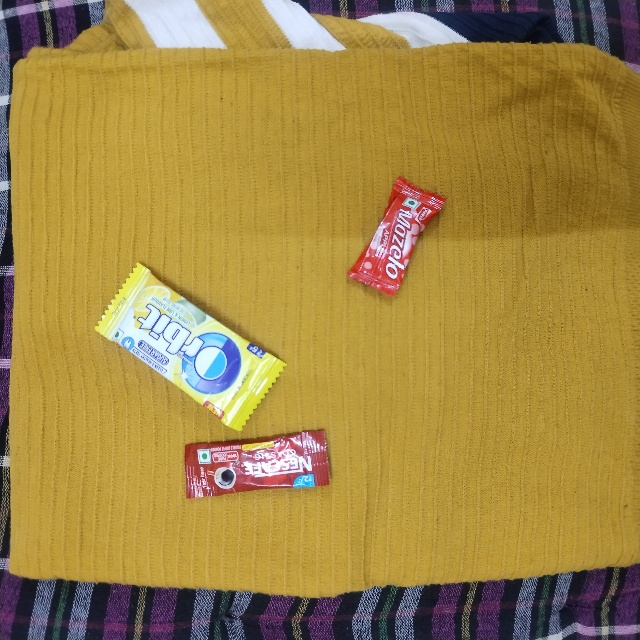Mazelo: (408, 174, 452, 295)
Nescafe Coffee: (182, 452, 328, 503)
Orbit: (134, 263, 317, 345)
